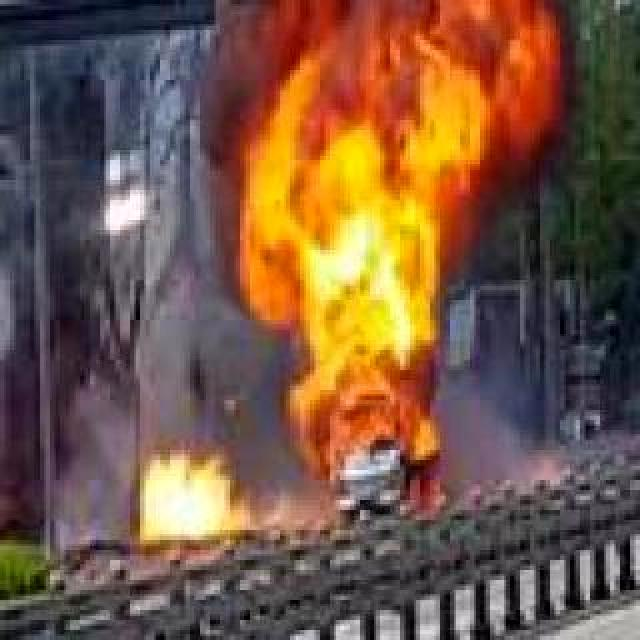fire: (256, 30, 468, 514), (134, 462, 230, 540)
